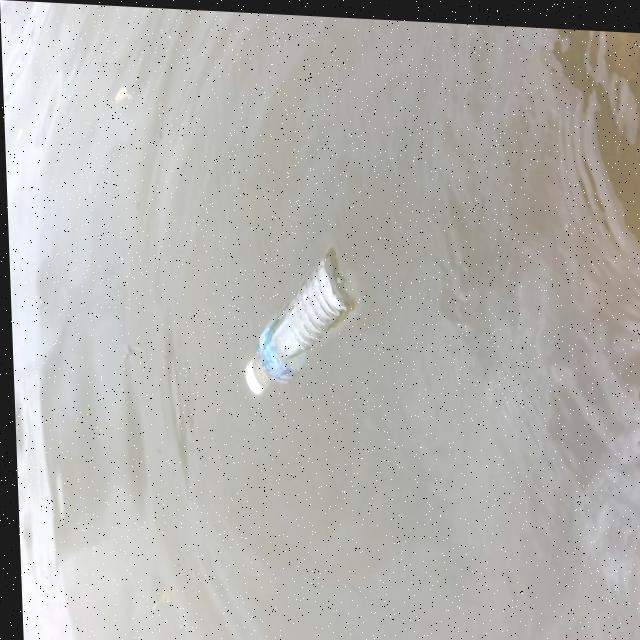waterbottle: (198, 235, 366, 424)
